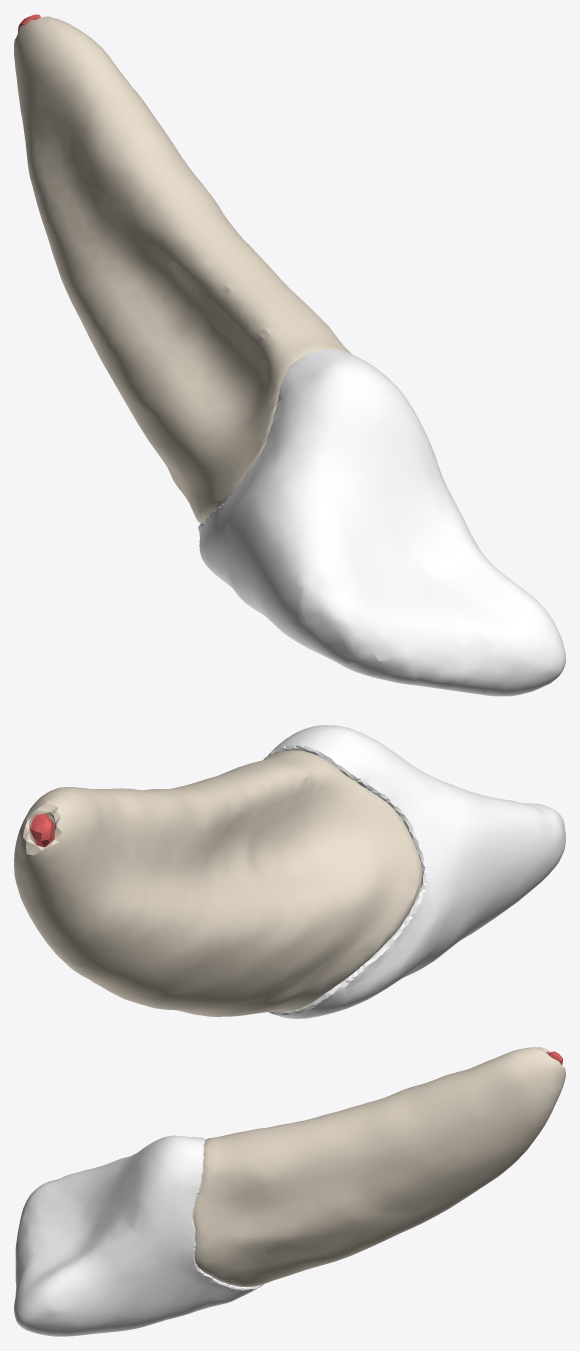
The model's file is 乳牙下颌侧切牙.fbx.
3 renders of one model, top to bottom at view 1: azimuth 30°, elevation 25°; view 2: azimuth 150°, elevation 25°; view 3: azimuth 270°, elevation 25°, orthographic. The views are drawn at different scales.
Parts seen in each view (by area): view 1: texture_B, texture_W; view 2: texture_B, texture_W, texture_S; view 3: texture_B, texture_W.
Boxes of the visible parts, x1,y1,x2,y2 form: texture_B: (14, 16, 351, 523); texture_W: (198, 348, 565, 696); texture_B: (14, 750, 422, 1016); texture_W: (264, 725, 565, 1018); texture_S: (30, 813, 55, 847); texture_B: (192, 1047, 565, 1286); texture_W: (14, 1135, 263, 1336).
Size of the model in its own units: 7.24 by 11.57 by 21.88.
Materials: 3 (3 with a texture image).
